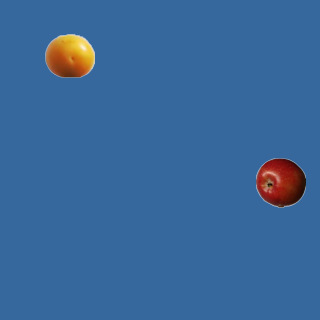Apple Braeburn: (255, 157, 305, 207)
Cherry Wax Yellow: (44, 30, 94, 80)
